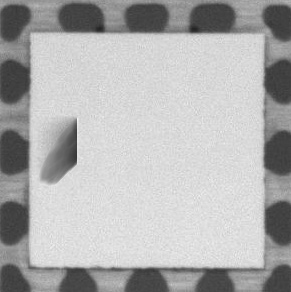DIE_INK: (37, 114, 78, 186)
